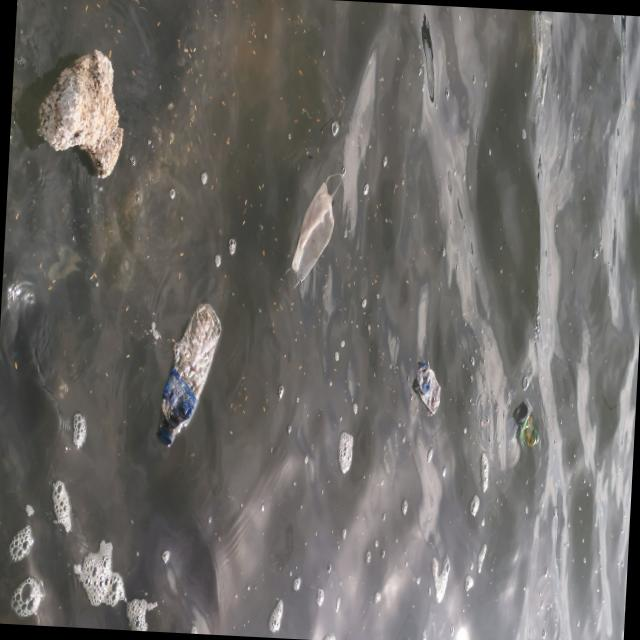can: (512, 402, 540, 448)
foam: (28, 41, 128, 180)
plastic: (156, 300, 222, 446)
unknow: (281, 164, 344, 293), (411, 353, 442, 418)
